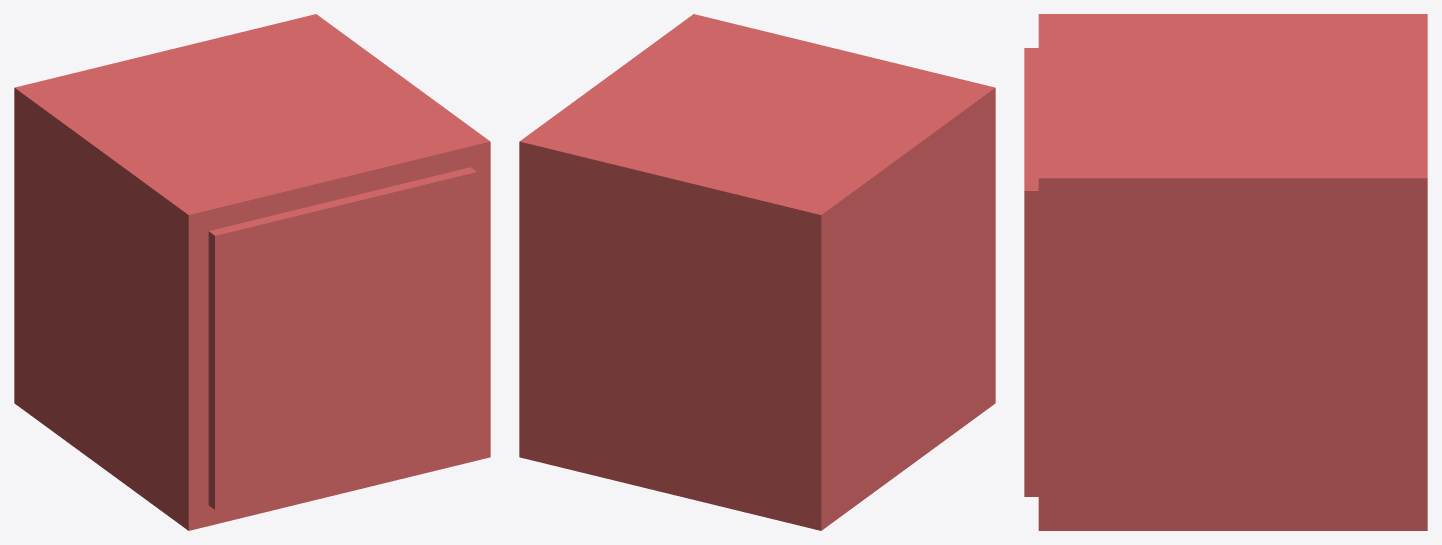
File: caja.glb
3 renders of one model, left to right at view 1: azimuth 30°, elevation 25°; view 2: azimuth 150°, elevation 25°; view 3: azimuth 270°, elevation 25°, orthographic. The views are drawn at different scales.
Parts seen in each view (by area): view 1: Caja, Puerta; view 2: Caja; view 3: Caja, Puerta.
Part boxes in pixels (bbox=[...]): Caja: bbox=[14, 14, 490, 530]; Puerta: bbox=[208, 167, 476, 509]; Caja: bbox=[519, 14, 995, 530]; Caja: bbox=[1038, 14, 1427, 530]; Puerta: bbox=[1024, 48, 1038, 496].
Bounding box in the file's own units: 2 × 2 × 2.07.
